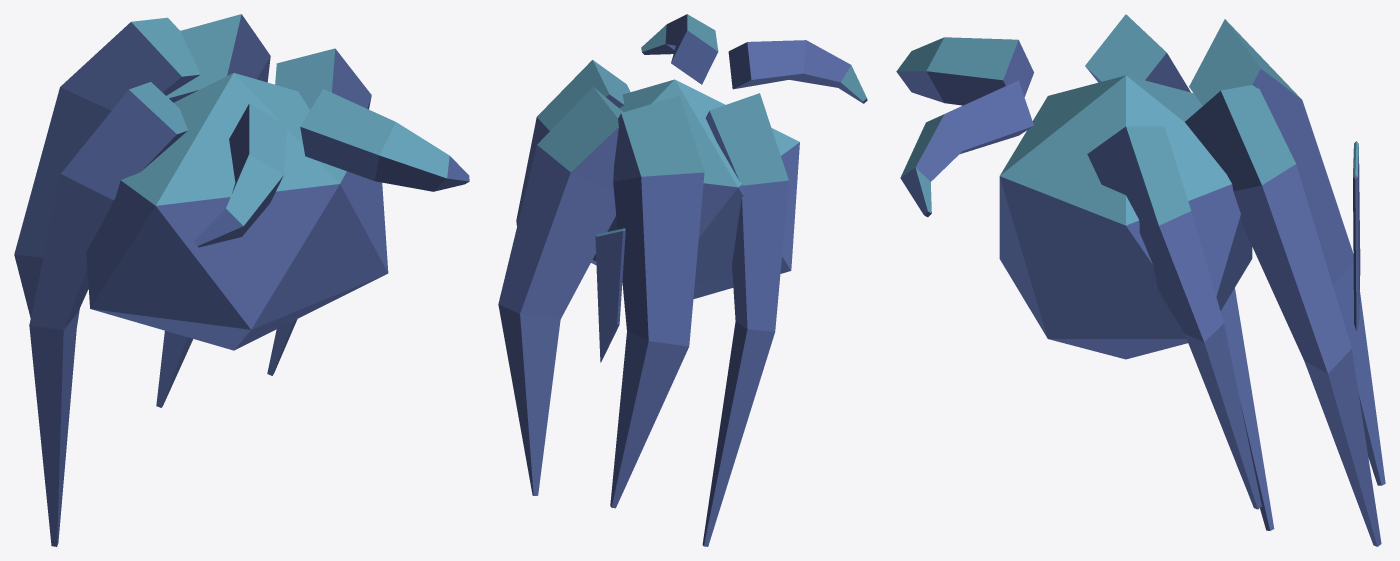
File: npc_module_hair_3_v01.glb
The picture shows the model from 3 angles, left to right: view 1: azimuth 30°, elevation 25°; view 2: azimuth 150°, elevation 25°; view 3: azimuth 270°, elevation 25°; orthographic projection. The views are drawn at different scales.
Parts seen in each view (by area): view 1: GEO_npc_module_hair_3_v01; view 2: GEO_npc_module_hair_3_v01; view 3: GEO_npc_module_hair_3_v01.
Boxes of the visible parts, x1,y1,x2,y2 form: GEO_npc_module_hair_3_v01: [14, 14, 469, 546]; GEO_npc_module_hair_3_v01: [498, 14, 867, 546]; GEO_npc_module_hair_3_v01: [896, 14, 1385, 546].
Size of the model in its own units: 0.9198 by 1.44 by 1.19.
